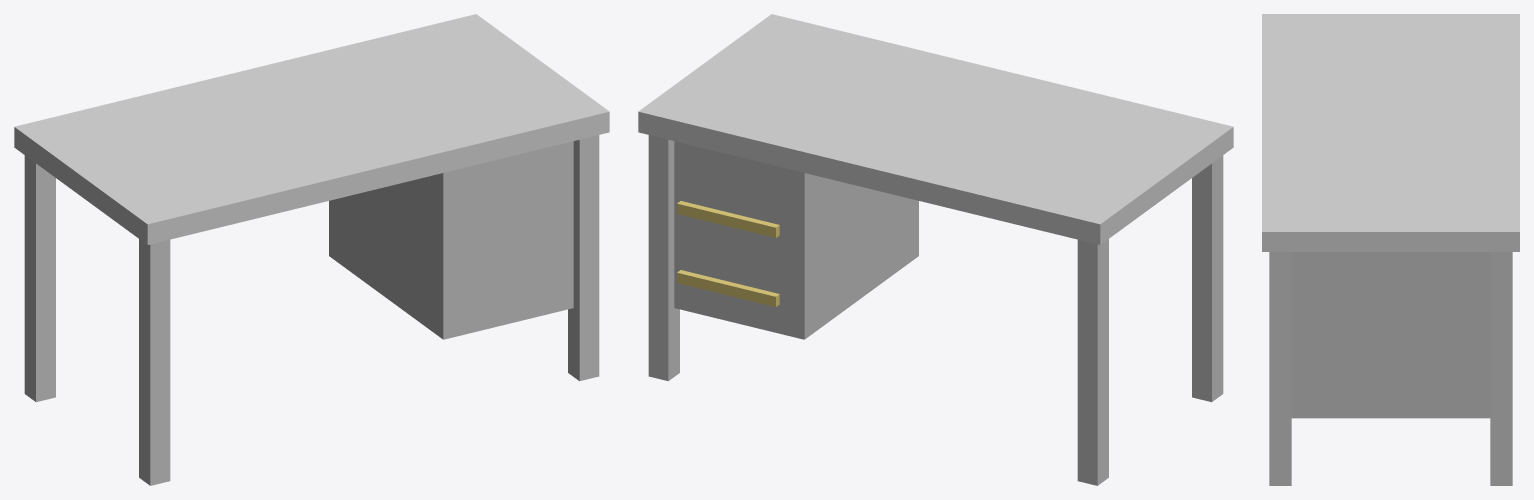
File: desk.glb
3 views of the same model, side by side, from view 1: azimuth 30°, elevation 25°; view 2: azimuth 150°, elevation 25°; view 3: azimuth 270°, elevation 25° (orthographic). The views are drawn at different scales.
Visible parts, largest first — view 1: Desk; view 2: Desk; view 3: Desk.
Part boxes in pixels (x1,y1,x2,y2): Desk: (14,14,609,485); Desk: (638,14,1233,485); Desk: (1262,14,1519,485).
Size of the model in its own units: 1.4 by 0.77 by 0.7.
